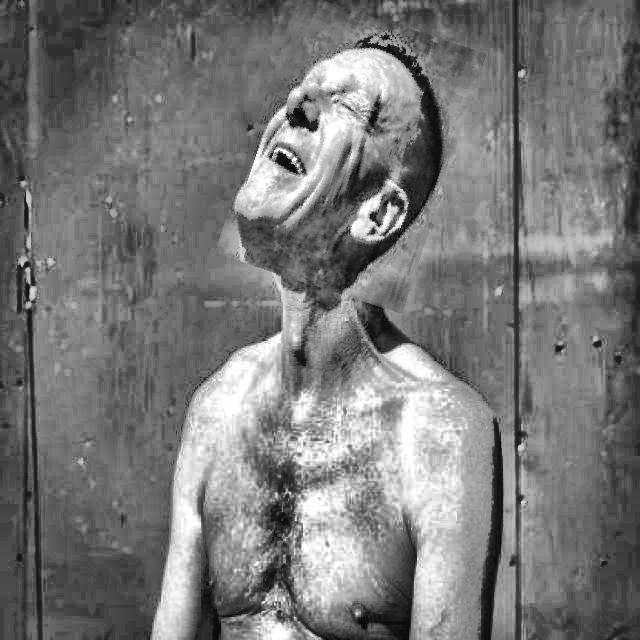happy: (233, 4, 468, 302)
